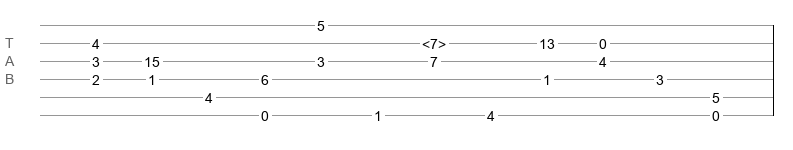0: (261, 108, 269, 118), (599, 36, 607, 46), (712, 108, 720, 118)
1: (148, 72, 156, 82), (374, 108, 382, 118), (543, 72, 551, 82)
13: (539, 36, 555, 46)
15: (144, 54, 160, 64)
2: (92, 72, 100, 82)
3: (92, 54, 100, 64), (317, 54, 325, 64), (656, 72, 664, 82)
4: (92, 36, 100, 46), (205, 90, 213, 100), (487, 108, 495, 118), (599, 54, 607, 64)
5: (317, 18, 325, 28), (712, 90, 720, 100)
6: (261, 72, 269, 82)
7: (430, 54, 438, 64)
harmonic: (422, 36, 446, 46)
